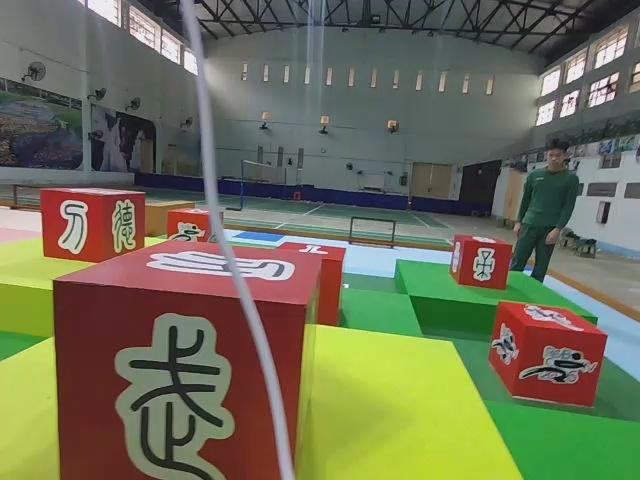R1: (485, 297, 610, 409), (164, 204, 224, 252)
R2 Fake: (48, 233, 326, 480), (37, 184, 147, 263)
R2 Real: (449, 231, 514, 291)
